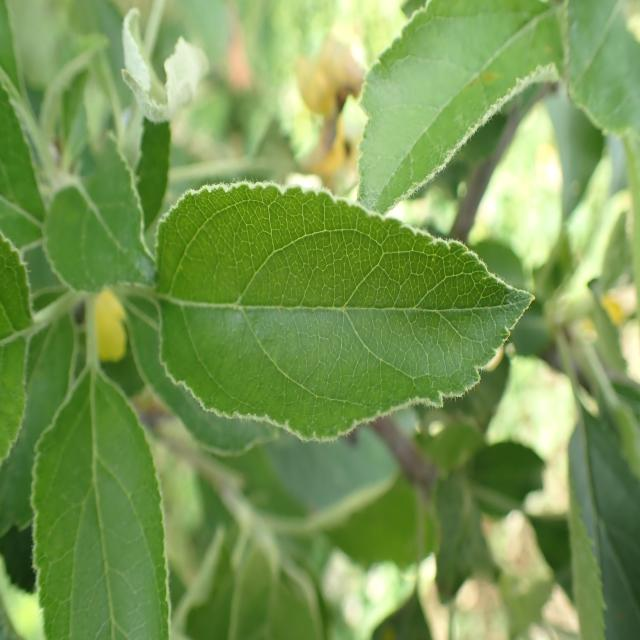healthy: (152, 179, 537, 445), (358, 0, 566, 216), (32, 358, 170, 640), (42, 128, 154, 296), (569, 405, 640, 640), (565, 0, 640, 139)
